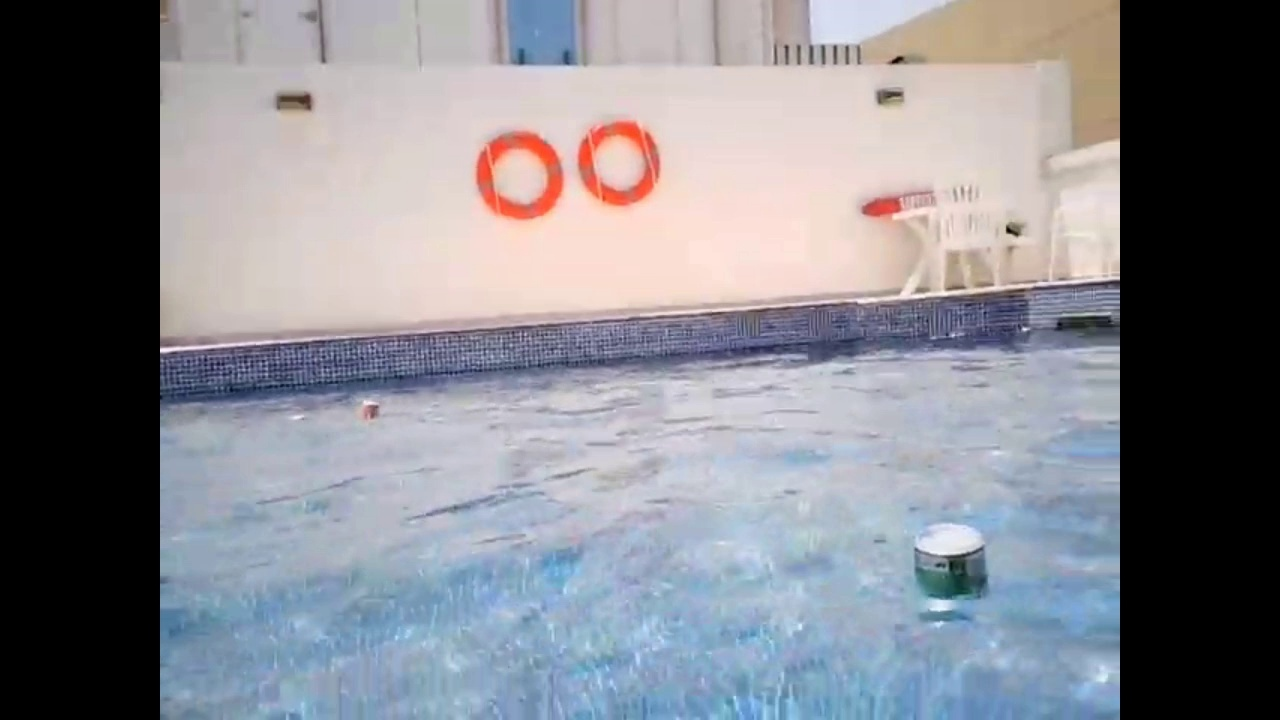debris: (899, 512, 1001, 631), (355, 396, 383, 426), (287, 408, 306, 427)
